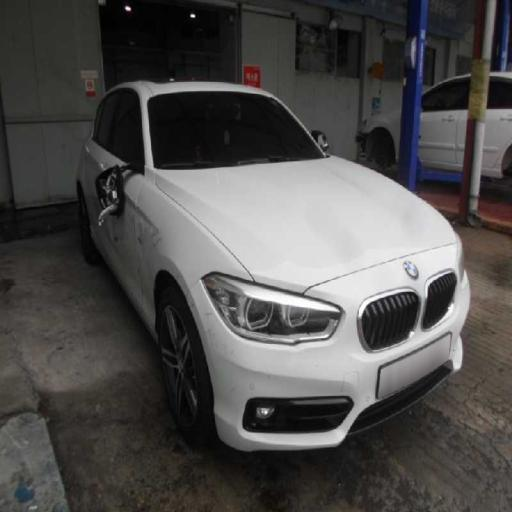scratch: (115, 207, 185, 310)
